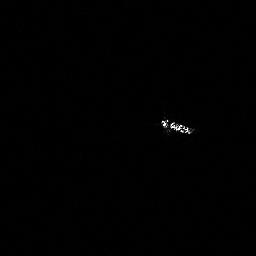ship: (158, 117, 197, 138)
